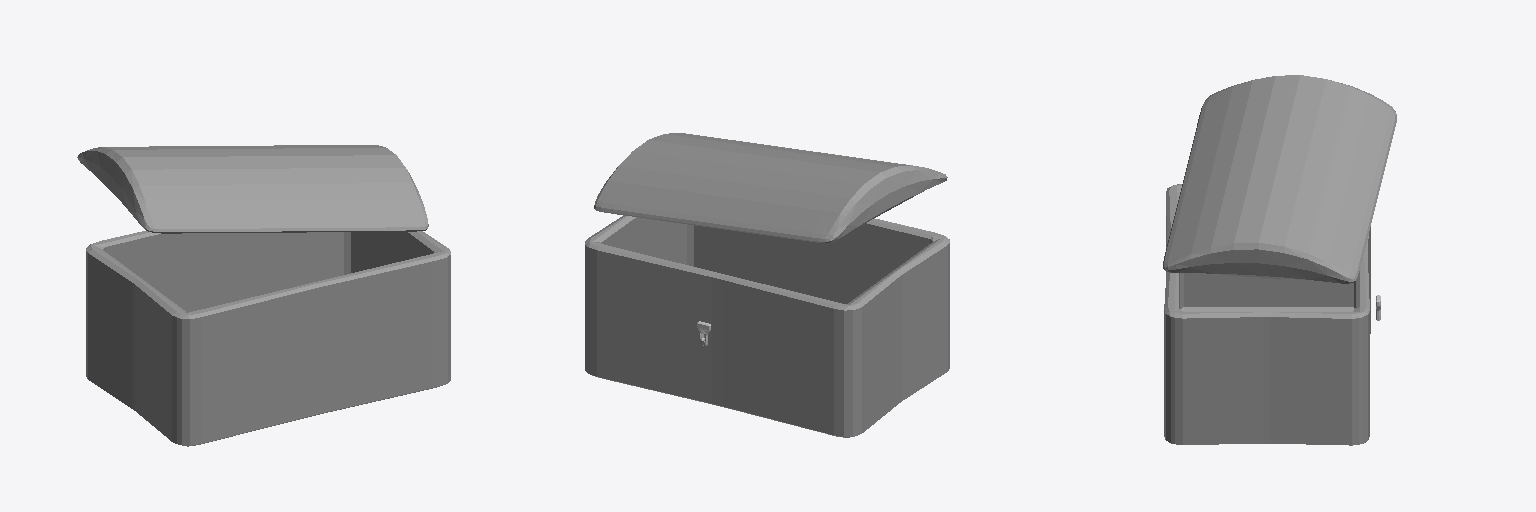
The model's file is sample2.obj.
3 renders of one model, left to right at view 1: azimuth 30°, elevation 25°; view 2: azimuth 150°, elevation 25°; view 3: azimuth 270°, elevation 25°, orthographic.
Parts seen in each view (by area): view 1: chest1_Cube, door_Cube.001; view 2: chest1_Cube, door_Cube.001; view 3: door_Cube.001, chest1_Cube.
Boxes of the visible parts, x1=… form: chest1_Cube: x1=86, y1=231, x2=450, y2=446; door_Cube.001: x1=77, y1=145, x2=428, y2=233; chest1_Cube: x1=585, y1=215, x2=949, y2=437; door_Cube.001: x1=594, y1=133, x2=947, y2=242; door_Cube.001: x1=1163, y1=75, x2=1396, y2=283; chest1_Cube: x1=1164, y1=184, x2=1370, y2=445.
Bounding box in the file's own units: 3.41 × 2.72 × 2.38.